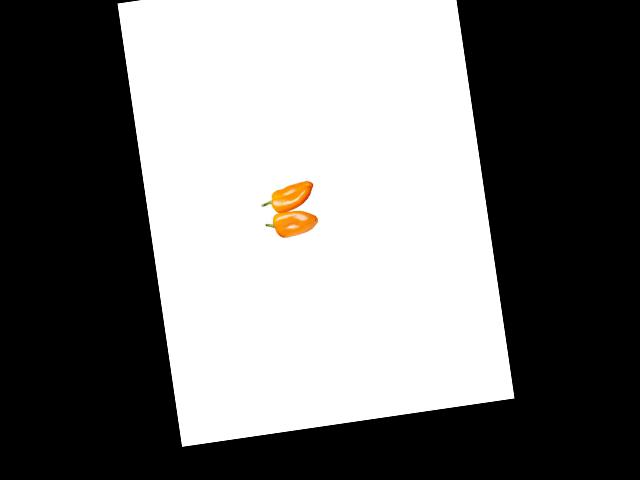bell_pepper: (262, 204, 331, 245)
